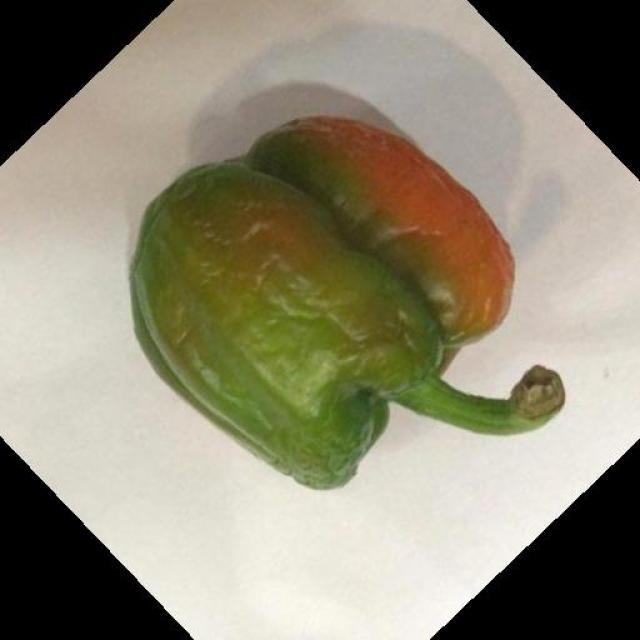Stale_Capsicum: (79, 104, 552, 502)
